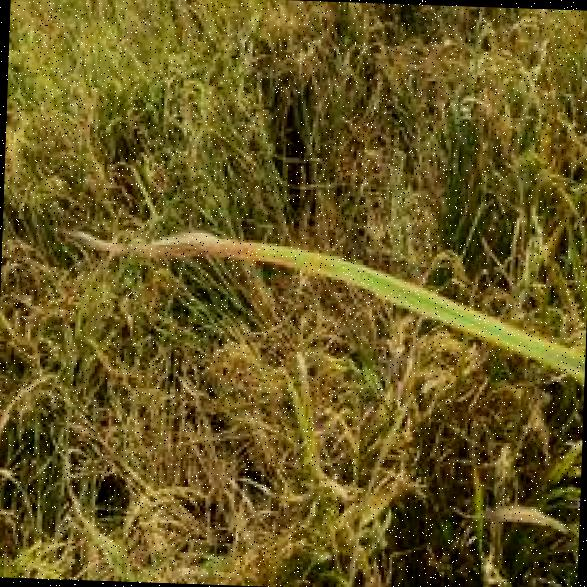Bacteria_Leaf_Blight: (52, 183, 444, 322)
